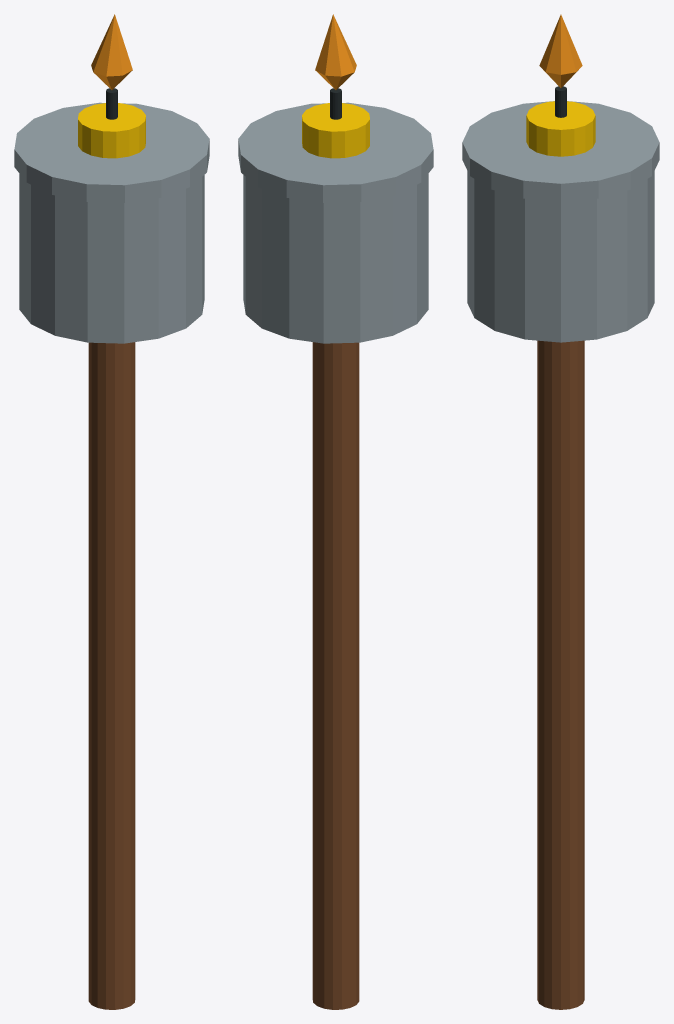
The model's file is hari-raya-pelita-lamp.glb.
3 renders of one model, left to right at view 1: azimuth 30°, elevation 25°; view 2: azimuth 150°, elevation 25°; view 3: azimuth 270°, elevation 25°, orthographic.
Visible parts, largest first — view 1: Bamboo_Stake, Reservoir, Shoulder, Wick_Cap, Flame; view 2: Bamboo_Stake, Reservoir, Shoulder, Wick_Cap, Flame; view 3: Bamboo_Stake, Reservoir, Shoulder, Wick_Cap, Flame.
Boxes of the visible parts, bbox=[...] form: Bamboo_Stake: bbox=[88, 342, 135, 1009]; Reservoir: bbox=[19, 174, 204, 343]; Shoulder: bbox=[14, 102, 209, 202]; Wick_Cap: bbox=[78, 103, 145, 158]; Flame: bbox=[91, 14, 132, 89]; Bamboo_Stake: bbox=[312, 342, 359, 1009]; Reservoir: bbox=[243, 174, 428, 343]; Shoulder: bbox=[238, 102, 433, 202]; Wick_Cap: bbox=[302, 103, 369, 158]; Flame: bbox=[315, 14, 356, 89]; Bamboo_Stake: bbox=[537, 340, 584, 1009]; Reservoir: bbox=[467, 171, 654, 342]; Shoulder: bbox=[462, 101, 659, 201]; Wick_Cap: bbox=[526, 101, 595, 156]; Flame: bbox=[539, 14, 582, 87].
Bounding box in the file's own units: 0.2 × 1.11 × 0.2.
